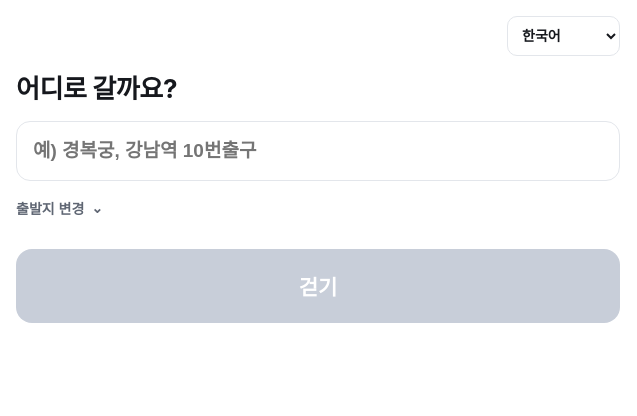
TEST B — '걷기' 클릭에서만 원샷 위치 조회, 성공해야만 navigating 진입 › 원샷 위치 조회가 실패하면 route API 를 부르지 않고 목적지 선택 화면에 남는다
In the search field named "목적지": (318,151) [16,121,620,181], type "경복궁"
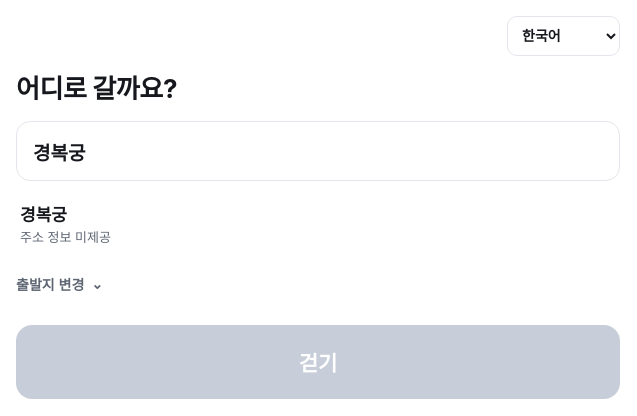
Click the button "경복궁 주소 정보 미제공": (43,216) [16,191,620,256]
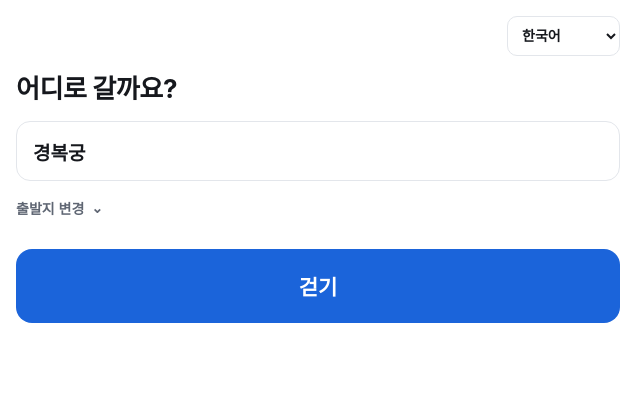
Click the button "걷기": (318,286) [16,249,620,323]
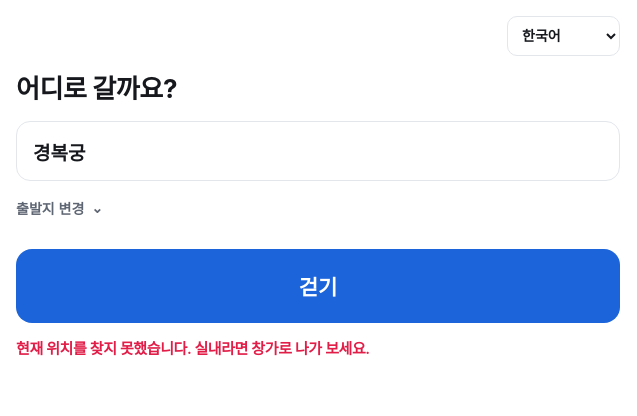
Expected: the text "현재 위치를 찾지 못했습니다. 실내라면 창가로 나가 보세요." is shown, [16,339,370,358]
